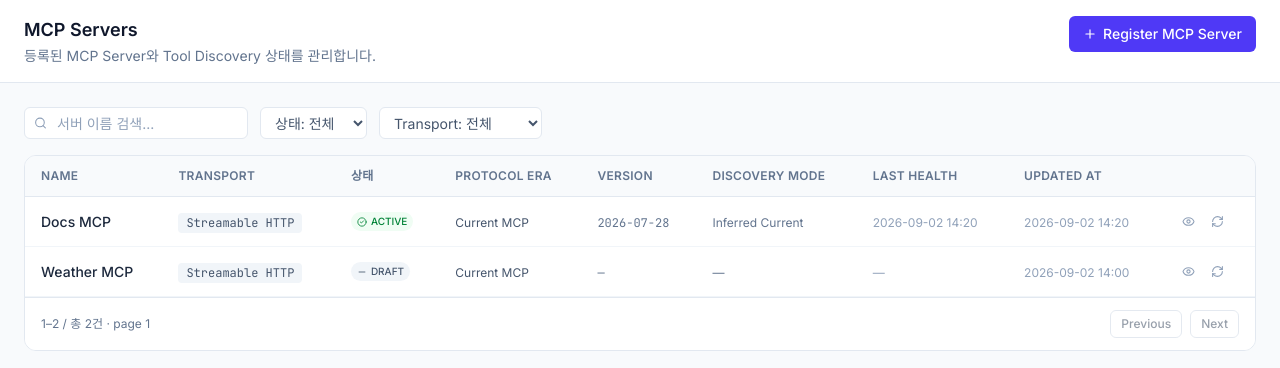
Scenario: MCPServers — API list › runs per-row connection test and shows SUCCEEDED status
Check: the text "Docs MCP" is shown, box [41,212,111,230]
Click the button titled "연결 테스트" in the row of "Docs MCP".
click(1217, 222)  # box [1205,209,1230,234]
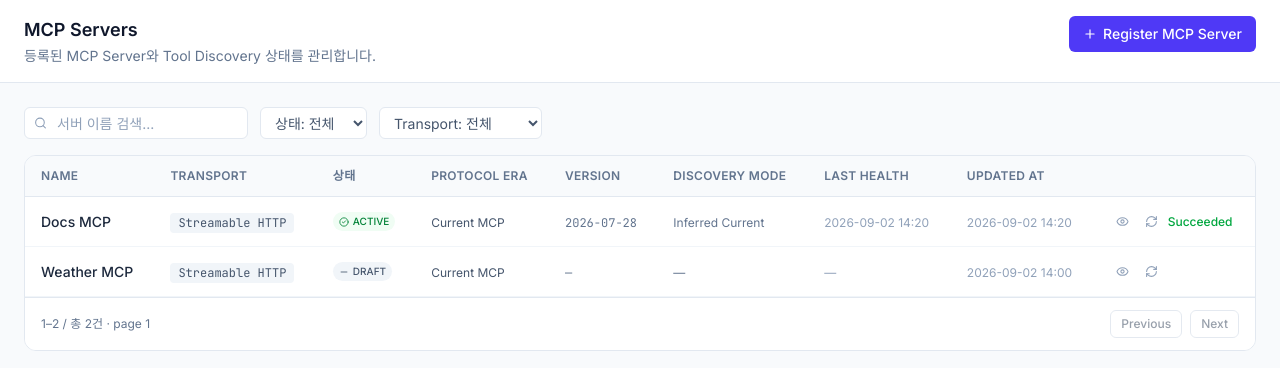
Check: the text "Succeeded" is shown, box [1168,214,1232,230]
